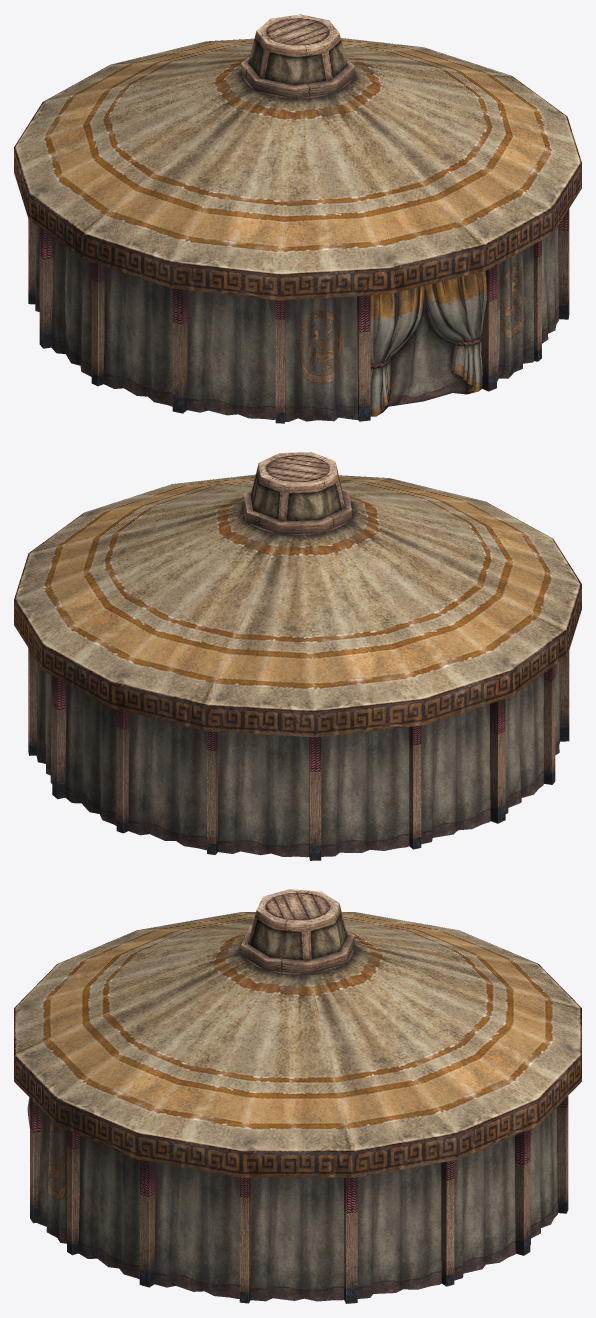
Rendered from Other_ZhangPeng_05.fbx.
3 renders of one model, top to bottom at view 1: azimuth 30°, elevation 25°; view 2: azimuth 150°, elevation 25°; view 3: azimuth 270°, elevation 25°, orthographic.
Visible parts, largest first — view 1: Other_ZhangPeng_05; view 2: Other_ZhangPeng_05; view 3: Other_ZhangPeng_05.
Part boxes in pixels (x1=…): Other_ZhangPeng_05: x1=14, y1=14, x2=581, y2=423; Other_ZhangPeng_05: x1=14, y1=452, x2=581, y2=860; Other_ZhangPeng_05: x1=14, y1=889, x2=581, y2=1303.
Size of the model in its own units: 1124 by 618 by 1124.
